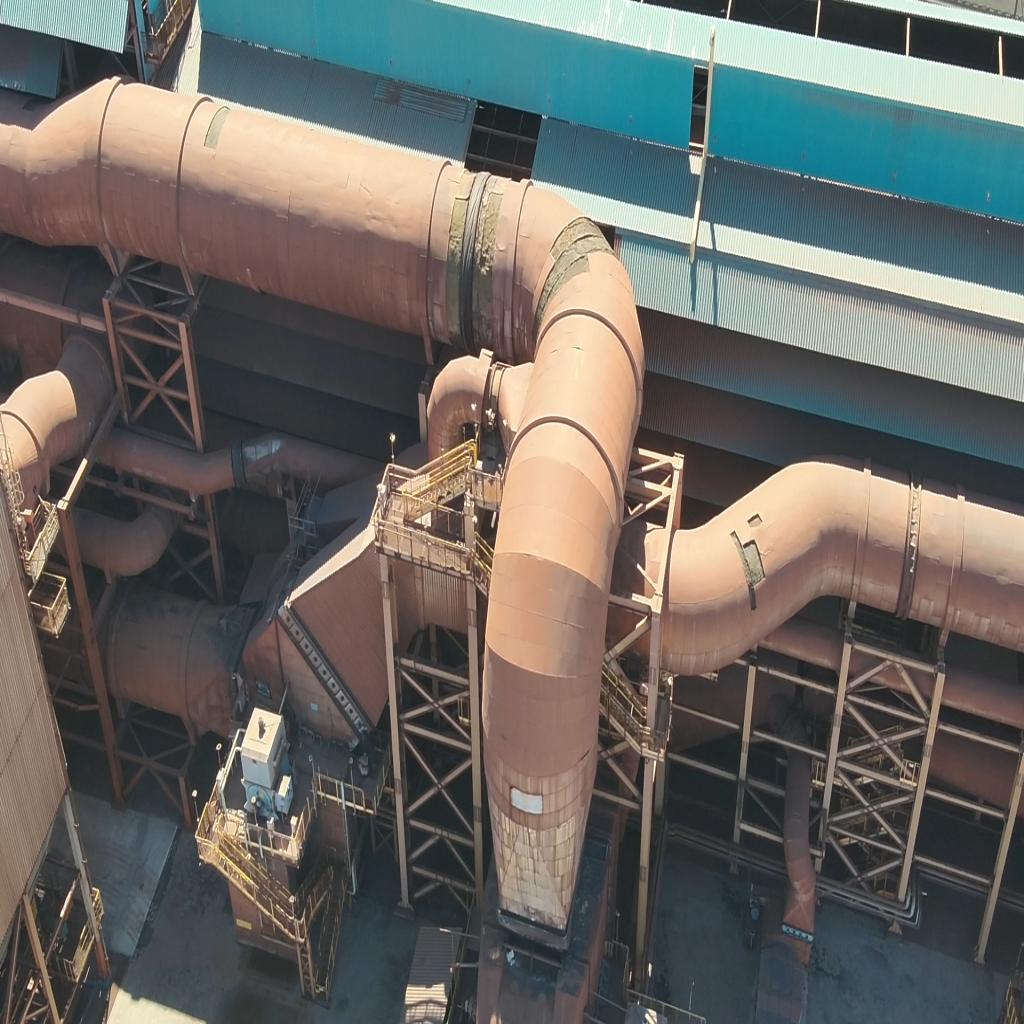Failures: (535, 216, 614, 334), (478, 194, 500, 338), (730, 528, 764, 608), (446, 200, 464, 342), (205, 107, 229, 153), (746, 510, 764, 530)
